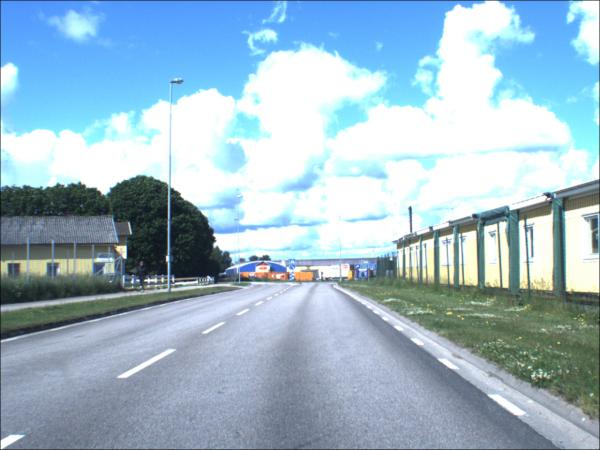PASS_RIGHT_SIDE: (291, 265, 297, 272)
PEDESTRIAN_CROSSING: (291, 260, 297, 265)
